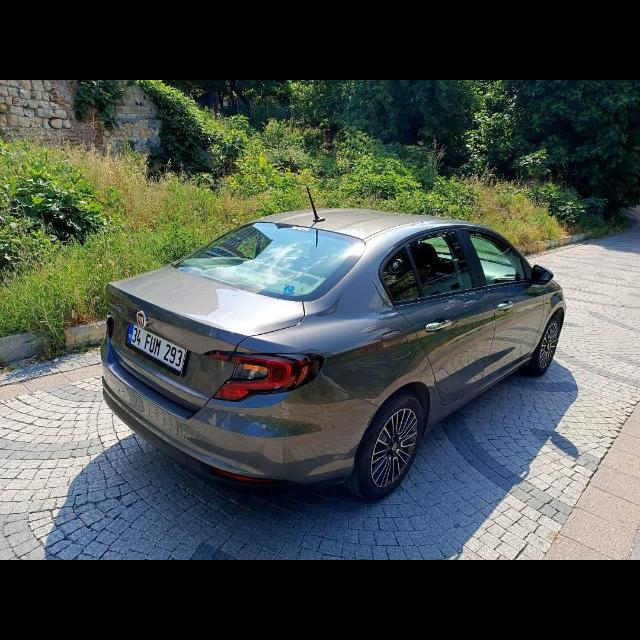Plaka: (128, 323, 188, 372)
